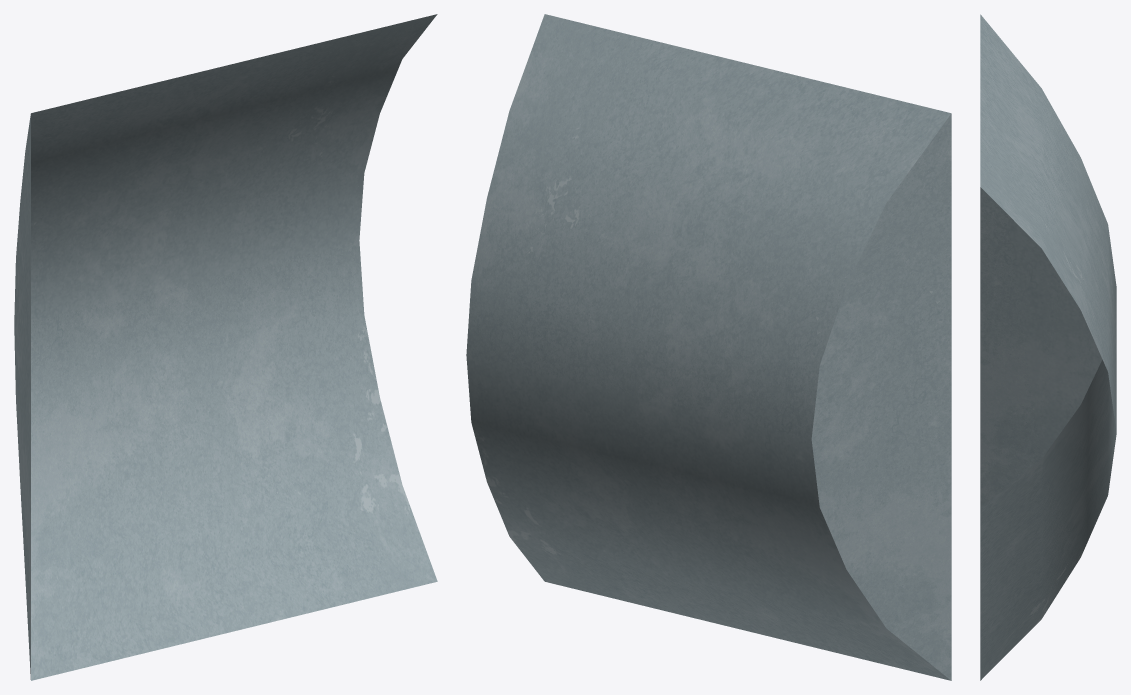
File: BasicWall_End.fbx
The picture shows the model from 3 angles, left to right: view 1: azimuth 30°, elevation 25°; view 2: azimuth 150°, elevation 25°; view 3: azimuth 270°, elevation 25°; orthographic projection. The views are drawn at different scales.
Visible parts, largest first — view 1: pPlane1; view 2: pPlane1; view 3: pPlane1.
Part boxes in pixels (left/top/right/bottom): pPlane1: left=14, top=14, right=437, bottom=680; pPlane1: left=466, top=14, right=951, bottom=680; pPlane1: left=980, top=14, right=1116, bottom=680.
Size of the model in its own units: 3 by 4 by 1.
